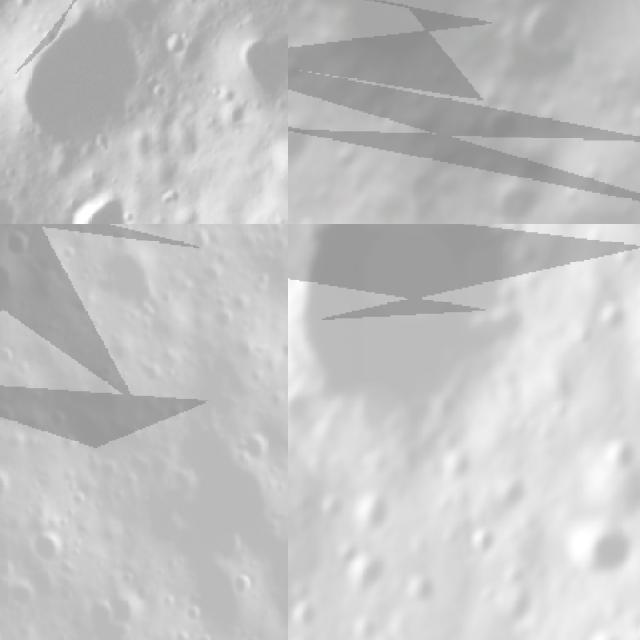crater: (288, 224, 526, 453), (0, 0, 155, 165), (213, 22, 288, 122), (506, 0, 598, 69), (472, 88, 541, 159), (478, 163, 554, 224), (288, 95, 336, 191), (569, 522, 635, 586), (26, 525, 77, 573), (340, 554, 388, 604), (75, 182, 129, 224), (351, 489, 394, 540), (590, 293, 634, 342), (235, 423, 278, 467), (102, 586, 144, 630), (601, 433, 640, 475), (0, 224, 37, 267), (556, 176, 594, 216), (468, 526, 506, 565), (496, 479, 535, 515), (408, 571, 443, 607), (204, 302, 241, 336), (221, 288, 258, 321), (182, 224, 217, 258), (316, 488, 348, 524), (288, 392, 315, 433), (273, 129, 288, 198), (197, 257, 228, 290), (288, 602, 321, 633), (230, 568, 259, 601), (0, 462, 19, 509), (0, 340, 24, 375), (0, 179, 15, 224), (173, 203, 205, 224), (585, 625, 628, 640), (171, 26, 193, 55)
